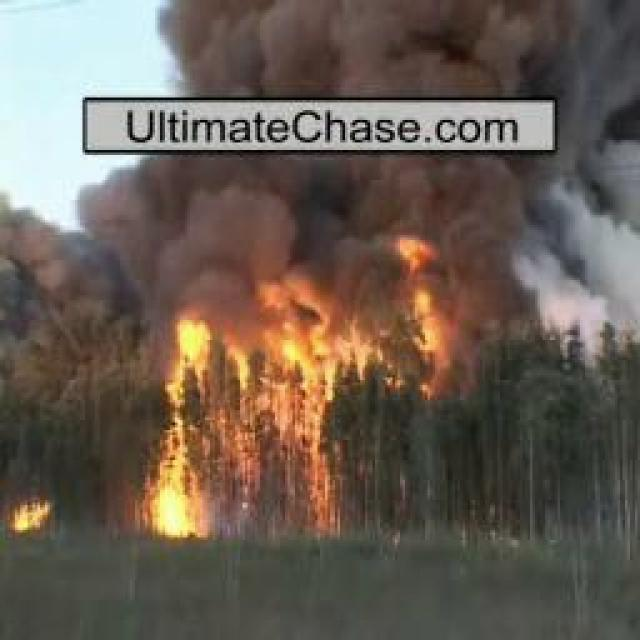Fire: (149, 300, 343, 540), (385, 224, 453, 402), (8, 498, 47, 532)
